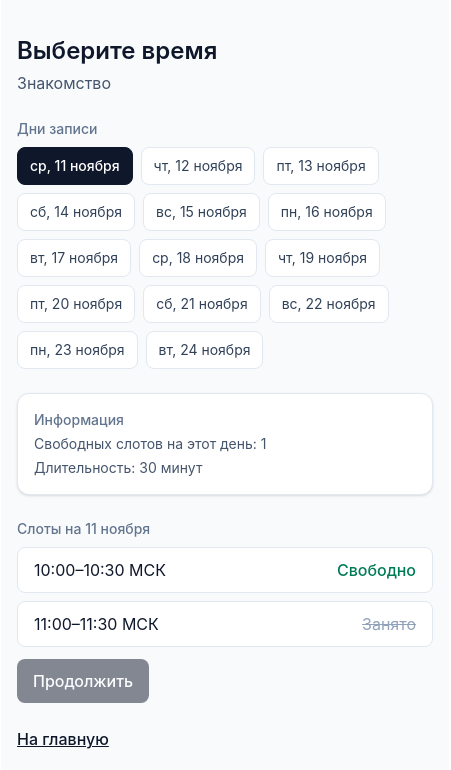
Страница записи › «Изменить» возвращает к выбору времени, не теряя выбранный слот
What coordinates should you click on to do the following:
click the button "10:00–10:30 МСК Свободно"
I would click on:
 (100, 570)
Its box is [17,547,433,593].
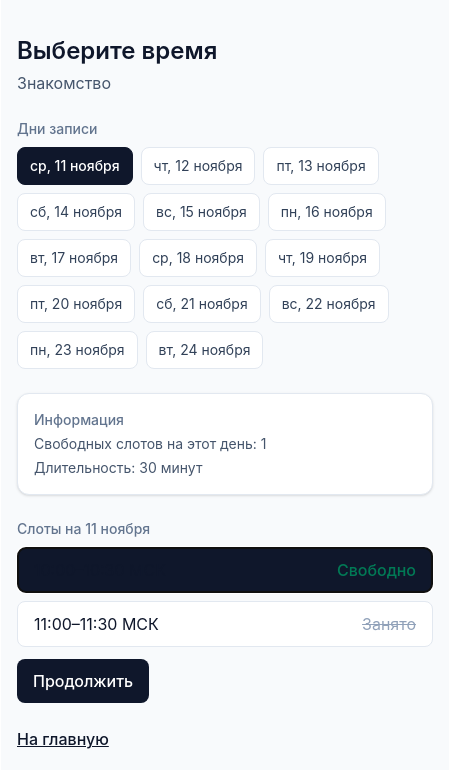
What coordinates should you click on to do the following:
click the button "Продолжить"
I would click on:
 (83, 681)
Its box is [17,659,149,703].
(page scrolled)
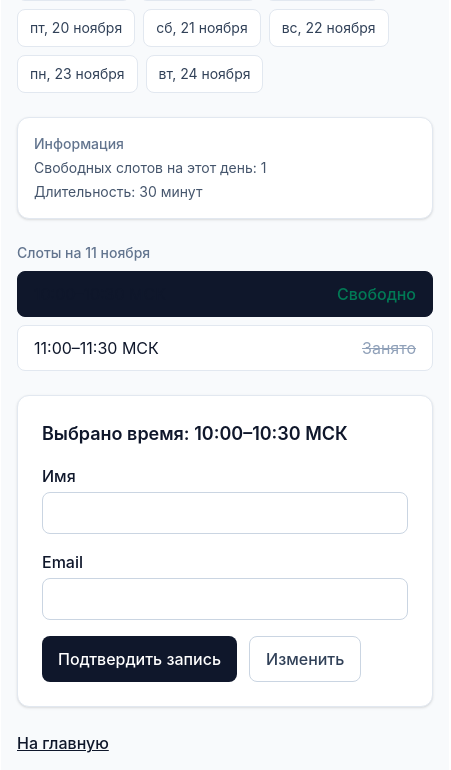
What coordinates should you click on to do the following:
click the button "Изменить"
I would click on:
 (305, 659)
Its box is [249,636,361,682].
(page scrolled)
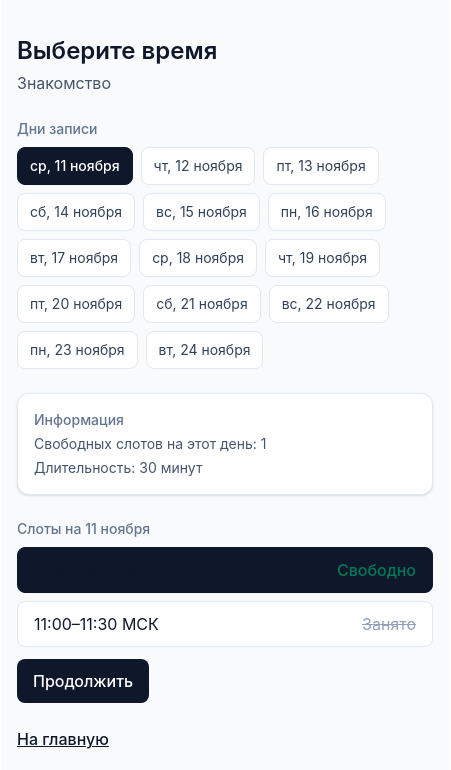
Expected: the button "10:00–10:30 МСК Свободно" is shown, [17,547,433,593]
Expected: the label labelled "Имя" is gone
Expected: the button "Продолжить" is enabled, [17,659,149,703]
